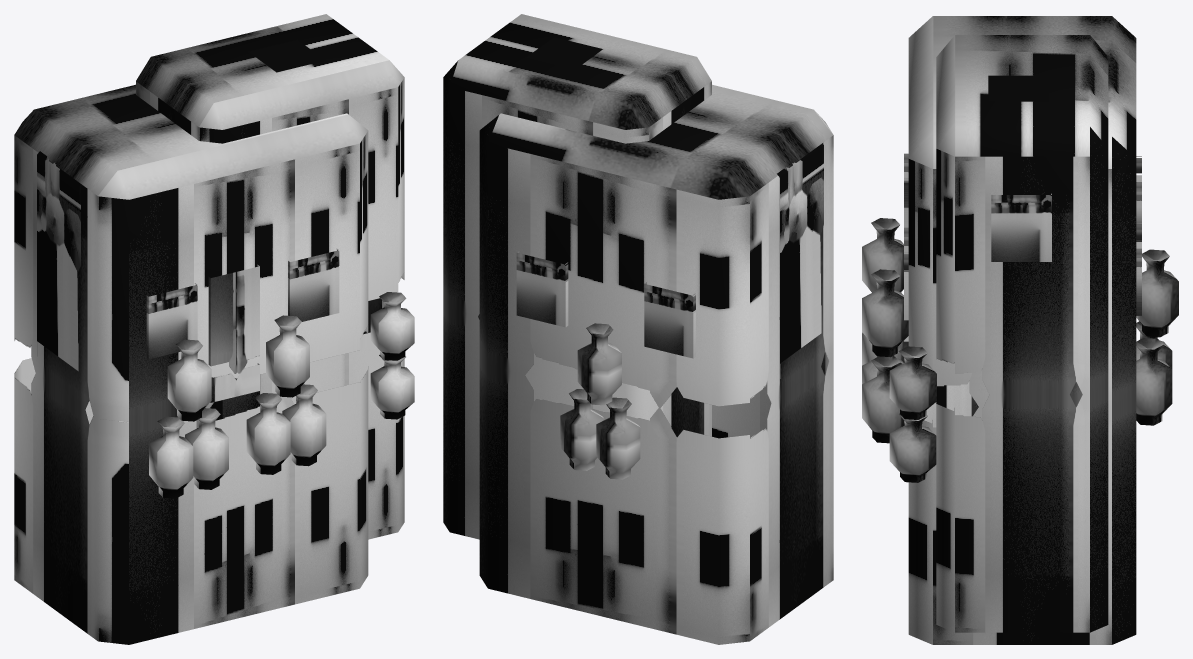
The model's file is house_b_hopi.dae.
3 views of the same model, side by side, from view 1: azimuth 30°, elevation 25°; view 2: azimuth 150°, elevation 25°; view 3: azimuth 270°, elevation 25° (orthographic). The views are drawn at different scales.
Parts seen in each view (by area): view 1: HouseB; view 2: HouseB; view 3: HouseB.
Part boxes in pixels (x1=…): HouseB: x1=14, y1=14, x2=414, y2=644; HouseB: x1=443, y1=14, x2=833, y2=644; HouseB: x1=862, y1=16, x2=1178, y2=644.
Size of the model in its own units: 13.12 by 10.41 by 19.39.
